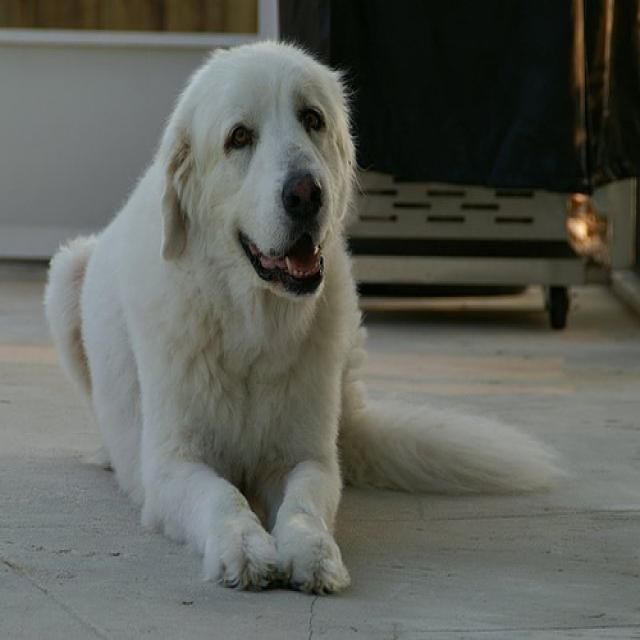dog-great_pyrenees: (36, 27, 558, 602)
